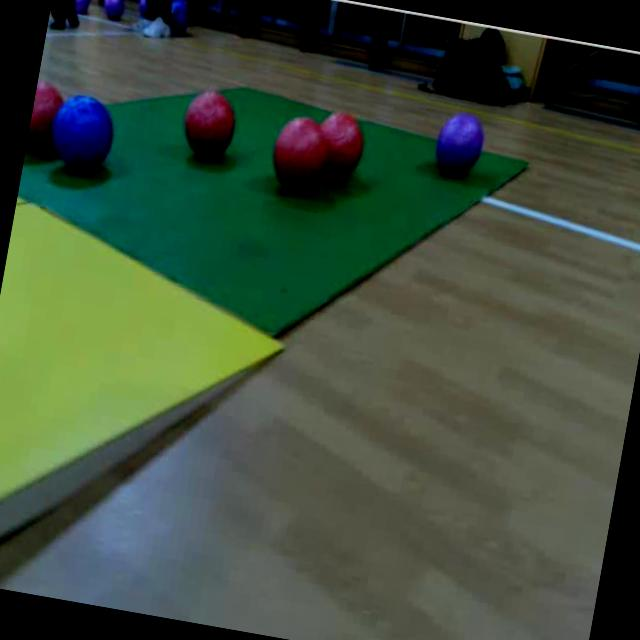blue_ball: (44, 88, 120, 176)
purple_ball: (428, 110, 488, 182)
red_ball: (266, 108, 334, 194), (178, 88, 241, 160), (310, 108, 368, 183), (26, 80, 67, 152)
